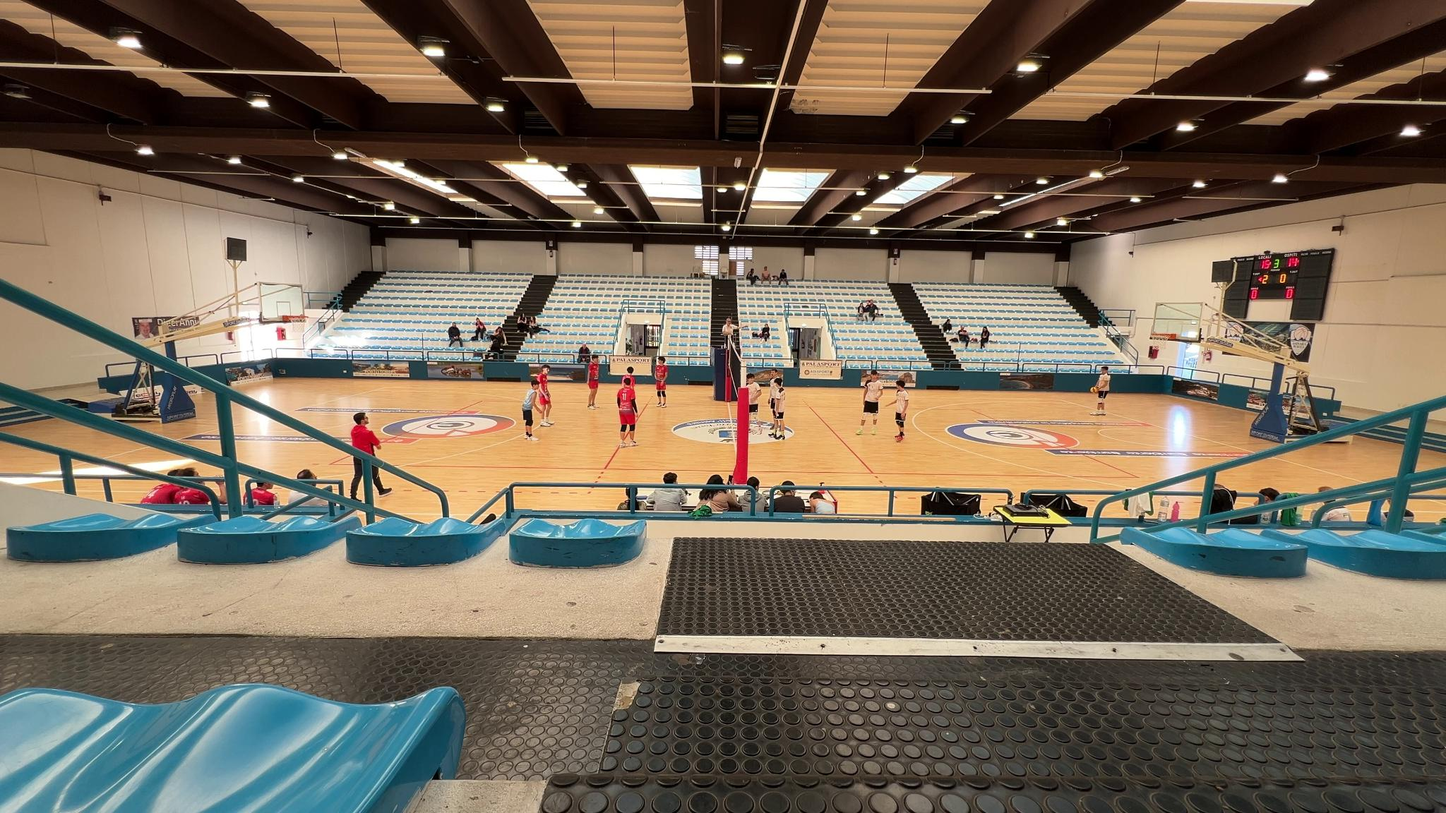volleyball court: (332, 399, 1142, 479)
